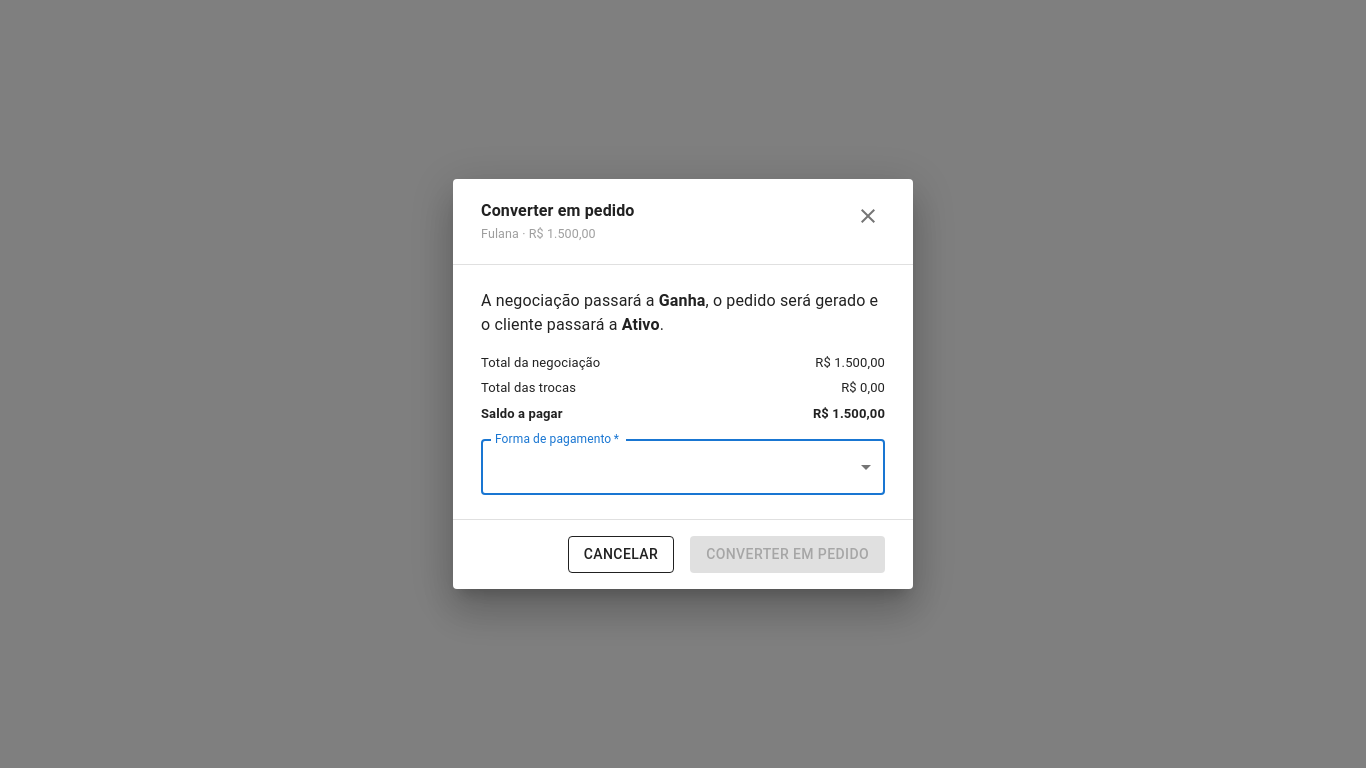
Scenario: ConvertToOrderModal › mostra a recusa do backend (todos os itens removidos) sem fechar o diálogo
Click the dropdown named "Forma de pagamento". click: (683, 467)
box: [481, 439, 885, 495]
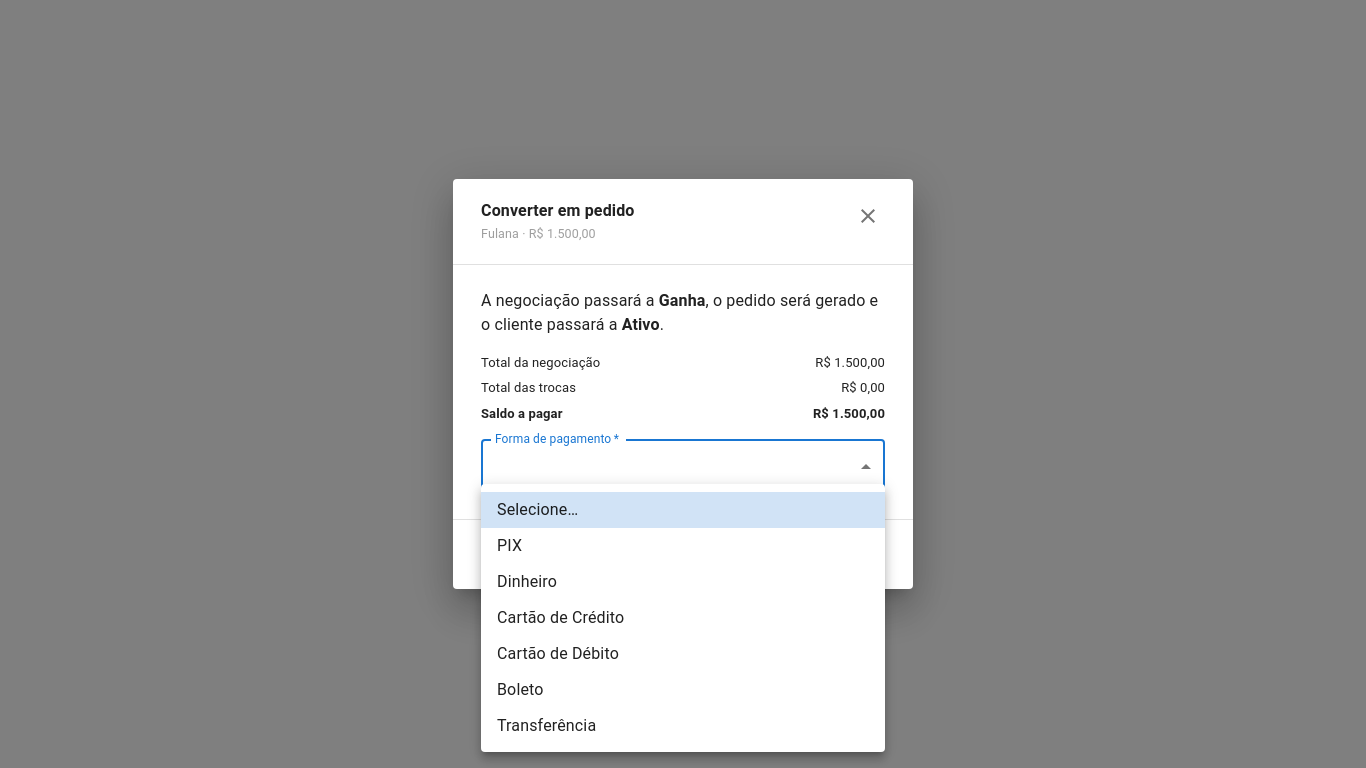
Click the option "PIX". click: (510, 546)
box: [497, 536, 522, 555]
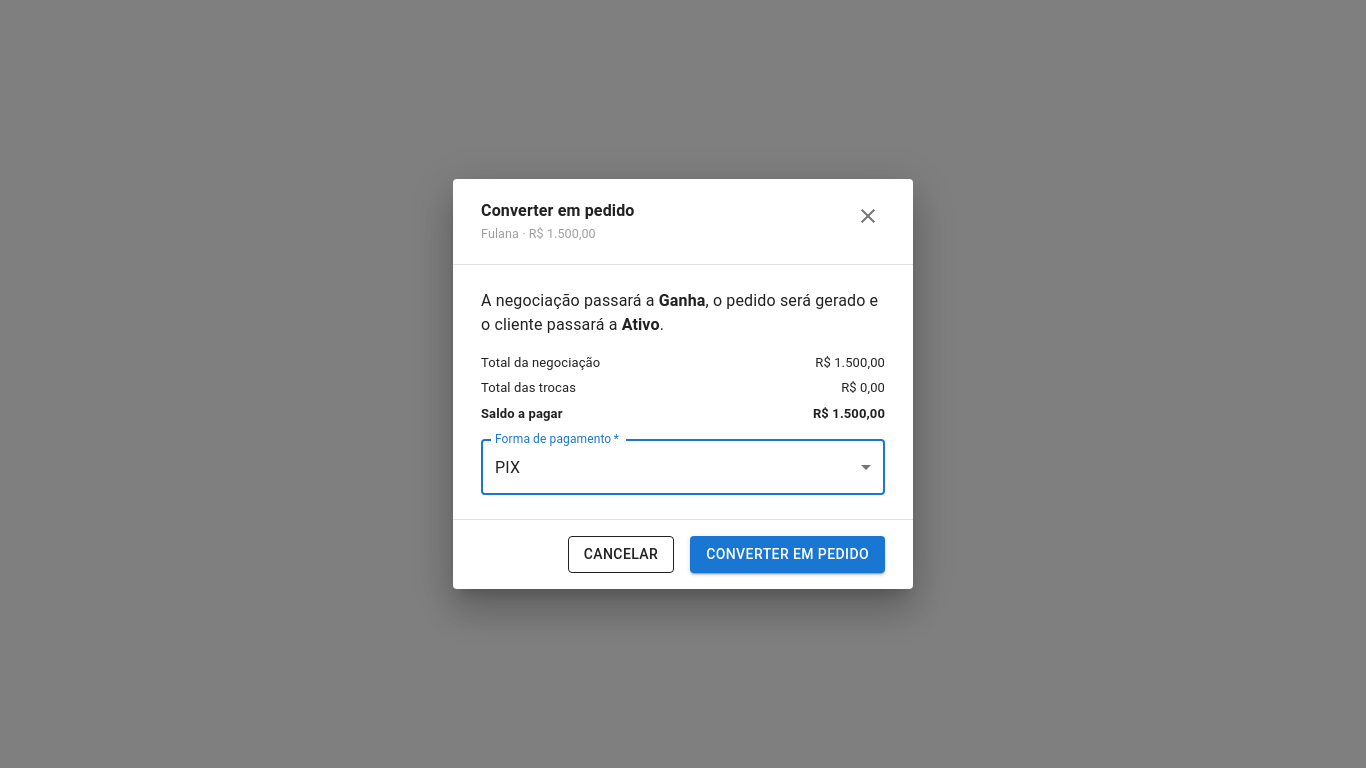
Click the button "Converter em pedido". click: (788, 555)
box: [690, 536, 885, 573]
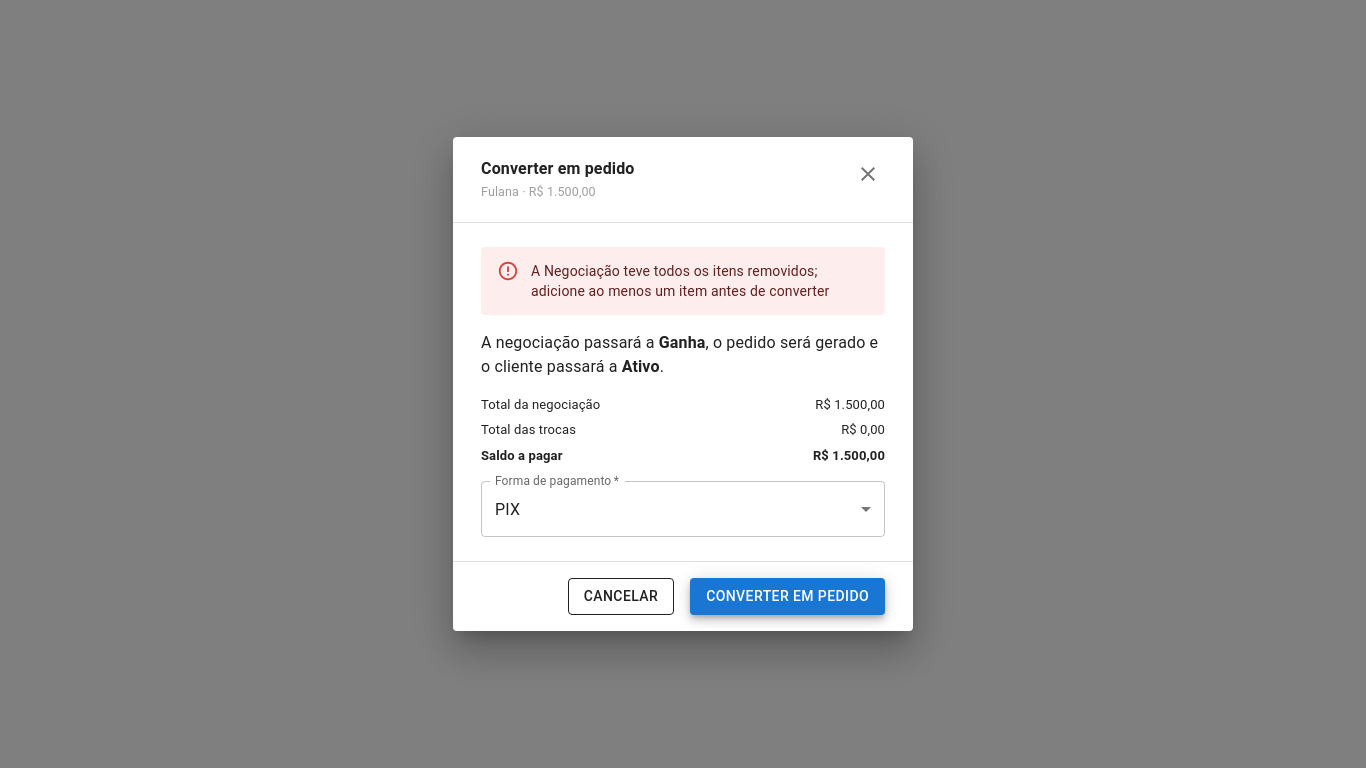
Now the button "Converter em pedido" is enabled, box [690, 578, 885, 615]
Now the message shows "A Negociação teve todos os itens removidos; adicione ao menos um item antes de converter", box [531, 263, 830, 299]
